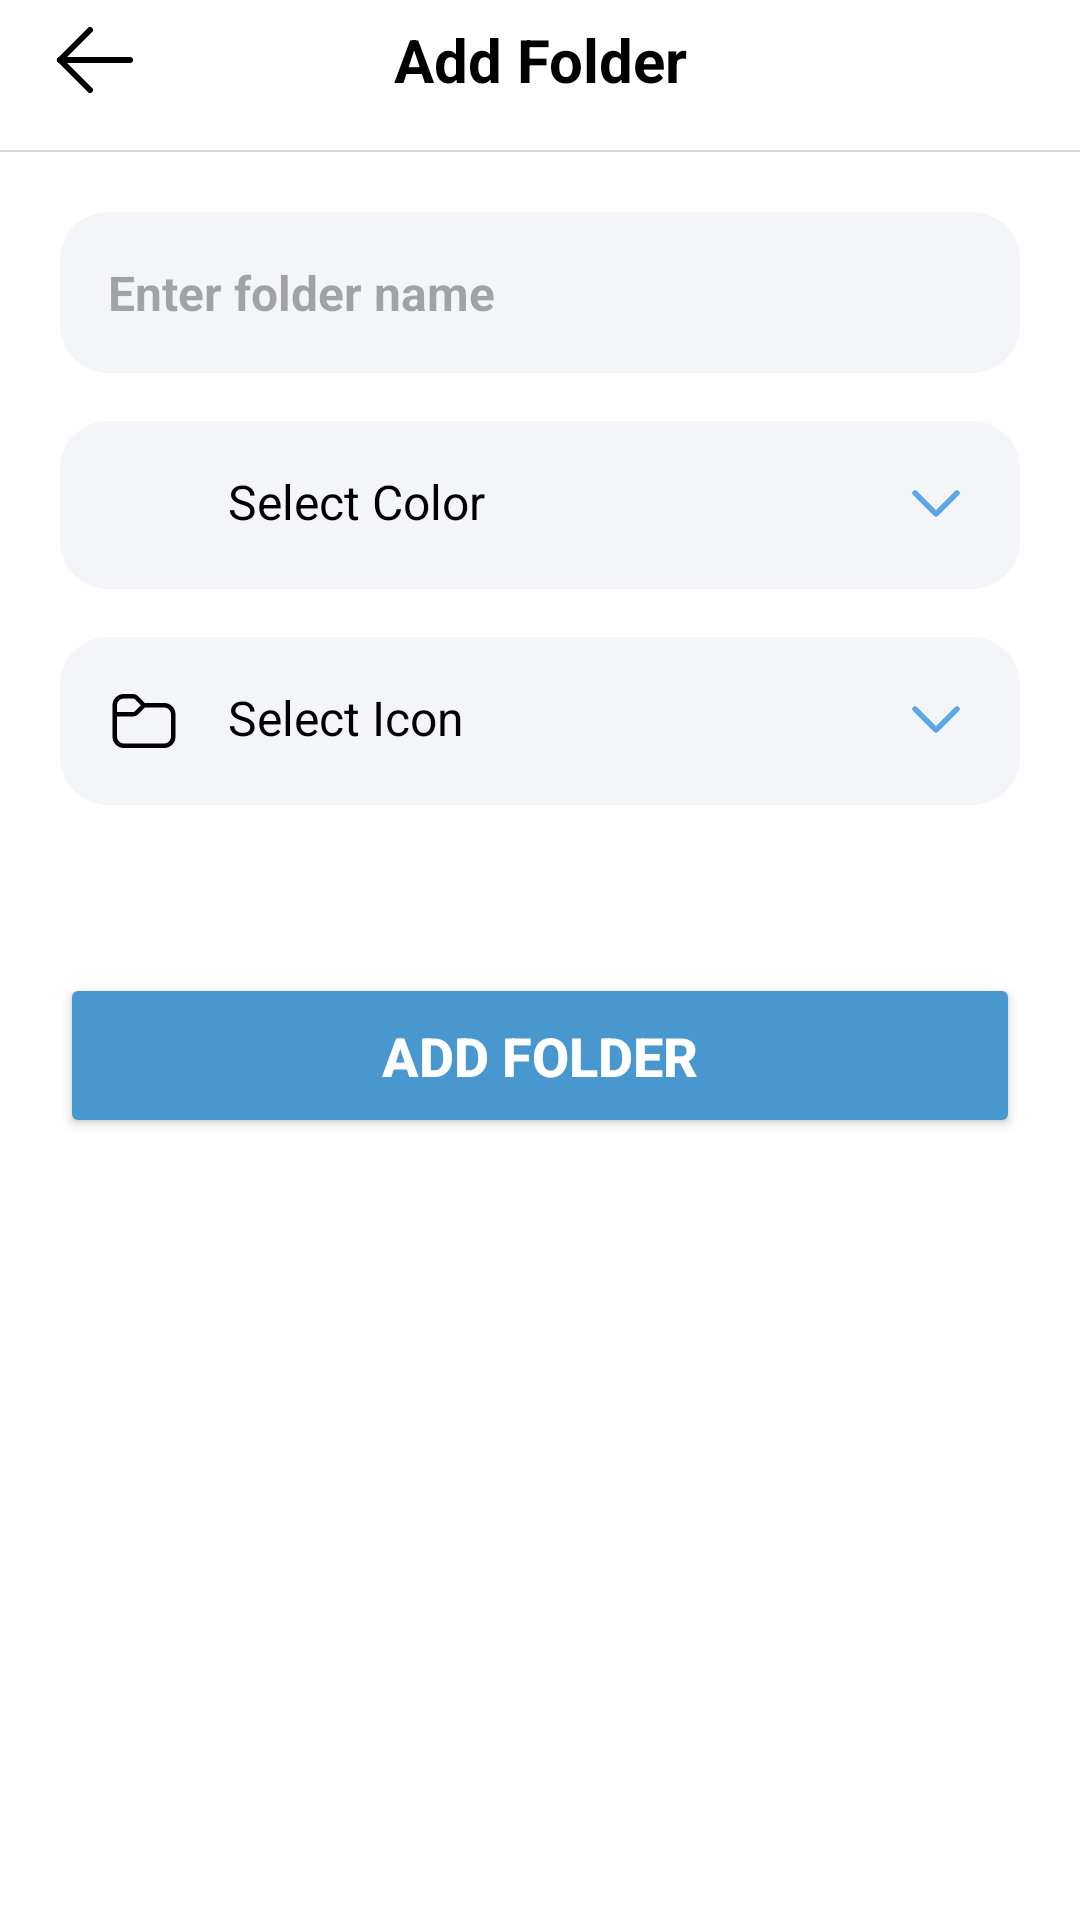

Locate icon controls on the screen. Image size 1080 x 1920, boxes as (x1, y1, x2, y2).
arrow back: (56, 27, 133, 93)
chevron down: (912, 490, 960, 517), (912, 706, 960, 733)
folder: (112, 694, 176, 748)
